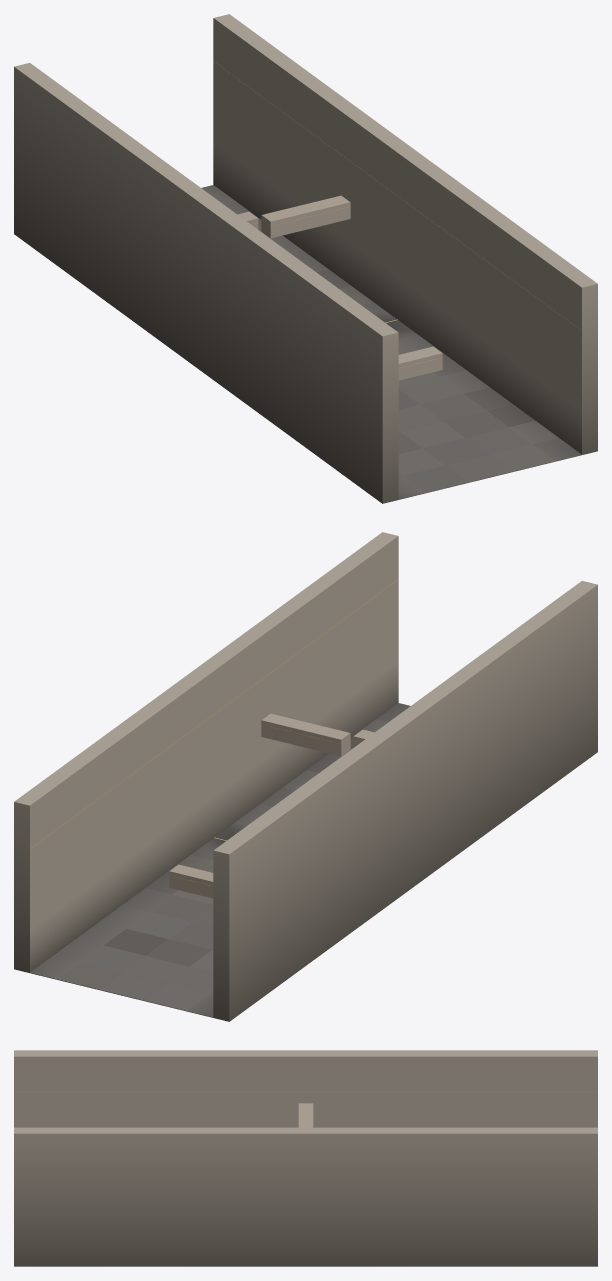
Rendered from 01_world.glb.
3 views of the same model, one above another, from view 1: azimuth 30°, elevation 25°; view 2: azimuth 150°, elevation 25°; view 3: azimuth 270°, elevation 25° (orthographic). The views are drawn at different scales.
Parts seen in each view (by area): view 1: world_11_body_nocol, world_01_body_nocol, world_11_floor_noshadow_nocol, world_01_floor_noshadow_nocol, world_10_floor_noshadow_nocol; view 2: world_11_body_nocol, world_01_body_nocol, world_10_floor_noshadow_nocol, world_00_floor_noshadow_nocol, world_11_floor_noshadow_nocol, world_10_body_nocol; view 3: world_11_body_nocol, world_01_body_nocol, world_01_trim_noshadow_nocol.
Part boxes in pixels (left/top/right/bottom): world_11_body_nocol: left=213, top=14, right=597, bottom=454; world_01_body_nocol: left=14, top=63, right=398, bottom=503; world_11_floor_noshadow_nocol: left=386, top=320, right=597, bottom=481; world_01_floor_noshadow_nocol: left=198, top=369, right=490, bottom=503; world_10_floor_noshadow_nocol: left=201, top=185, right=396, bottom=322; world_11_body_nocol: left=14, top=532, right=398, bottom=972; world_01_body_nocol: left=213, top=581, right=597, bottom=1021; world_10_floor_noshadow_nocol: left=14, top=838, right=225, bottom=999; world_00_floor_noshadow_nocol: left=121, top=887, right=413, bottom=1021; world_11_floor_noshadow_nocol: left=215, top=703, right=410, bottom=840; world_10_body_nocol: left=169, top=864, right=213, bottom=898; world_11_body_nocol: left=14, top=1103, right=597, bottom=1265; world_01_body_nocol: left=14, top=1050, right=597, bottom=1127; world_01_trim_noshadow_nocol: left=14, top=1091, right=597, bottom=1091.
Bounding box in the file's own units: 54 × 40.12 × 160.
